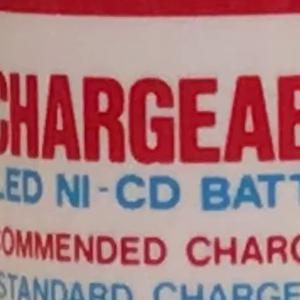NI-CD: (46, 166, 190, 218)
